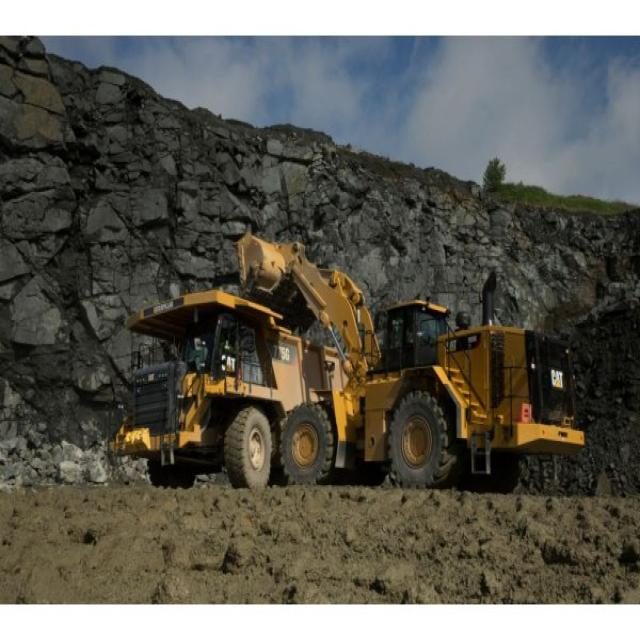buldozerpayloadergrader: (234, 221, 591, 494)
dump_truck: (115, 283, 308, 494)
